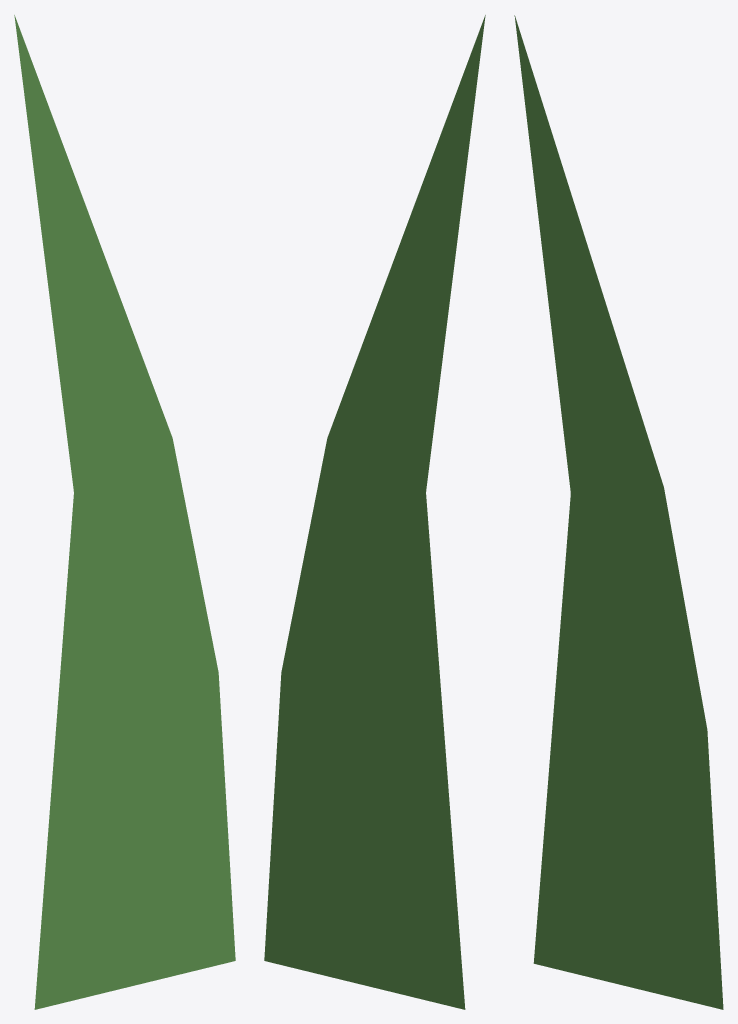
Rendered from Grass_06.fbx.
3 views of the same model, side by side, from view 1: azimuth 30°, elevation 25°; view 2: azimuth 150°, elevation 25°; view 3: azimuth 330°, elevation 25° (orthographic). The views are drawn at different scales.
Visible parts, largest first — view 1: Grass; view 2: Grass; view 3: Grass.
Boxes of the visible parts, x1,y1,x2,y2 form: Grass: (14, 15, 235, 1009); Grass: (264, 15, 485, 1009); Grass: (514, 15, 723, 1009).
Bounding box in the file's own units: 2.87 × 12.4 × 0.
